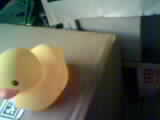duck: (1, 35, 63, 99)
